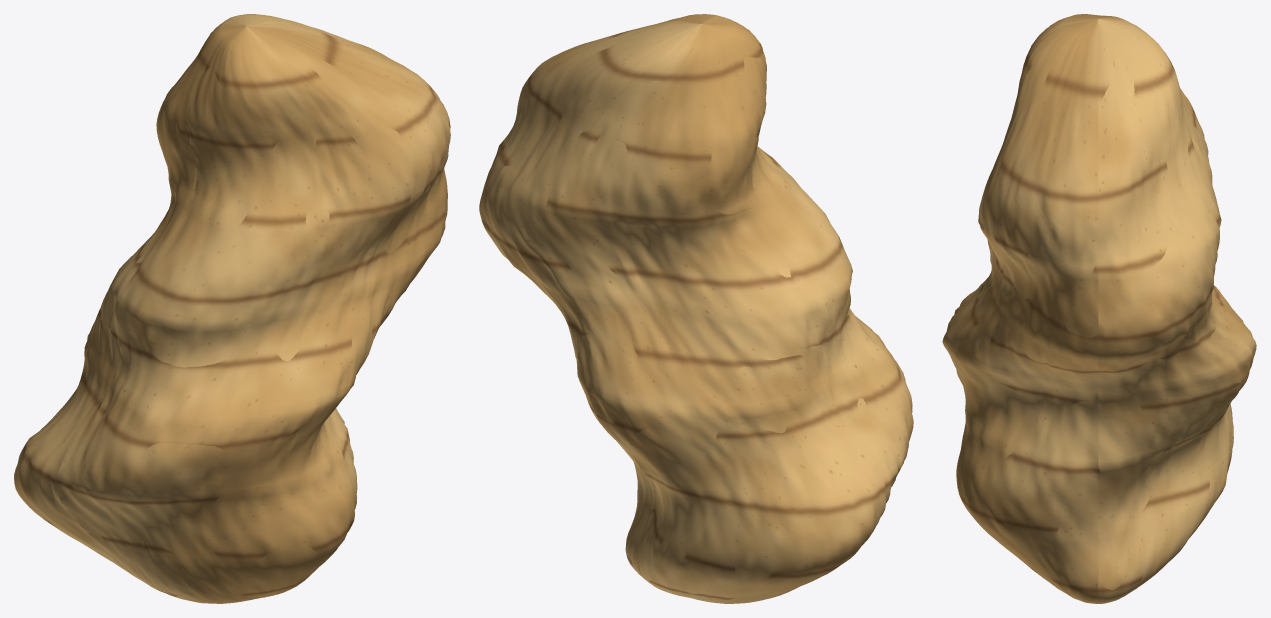
File: gingembre.glb
3 views of the same model, side by side, from view 1: azimuth 30°, elevation 25°; view 2: azimuth 150°, elevation 25°; view 3: azimuth 270°, elevation 25° (orthographic).
Parts seen in each view (by area): view 1: entier_peau, moitie_A_peau, moitie_B_peau; view 2: entier_peau, moitie_B_peau, moitie_A_peau; view 3: entier_peau, moitie_B_peau, moitie_A_peau.
Boxes of the visible parts, x1=… form: entier_peau: x1=14, y1=14, x2=450, y2=602; moitie_A_peau: x1=58, y1=26, x2=450, y2=603; moitie_B_peau: x1=14, y1=14, x2=389, y2=575; entier_peau: x1=479, y1=14, x2=913, y2=603; moitie_B_peau: x1=479, y1=22, x2=892, y2=603; moitie_A_peau: x1=539, y1=14, x2=913, y2=488; entier_peau: x1=942, y1=14, x2=1256, y2=603; moitie_B_peau: x1=1098, y1=15, x2=1255, y2=603; moitie_A_peau: x1=945, y1=14, x2=1098, y2=603.
Size of the model in its own units: 0.1108 by 0.15 by 0.0751.
Materials: 2 (2 with a texture image).
